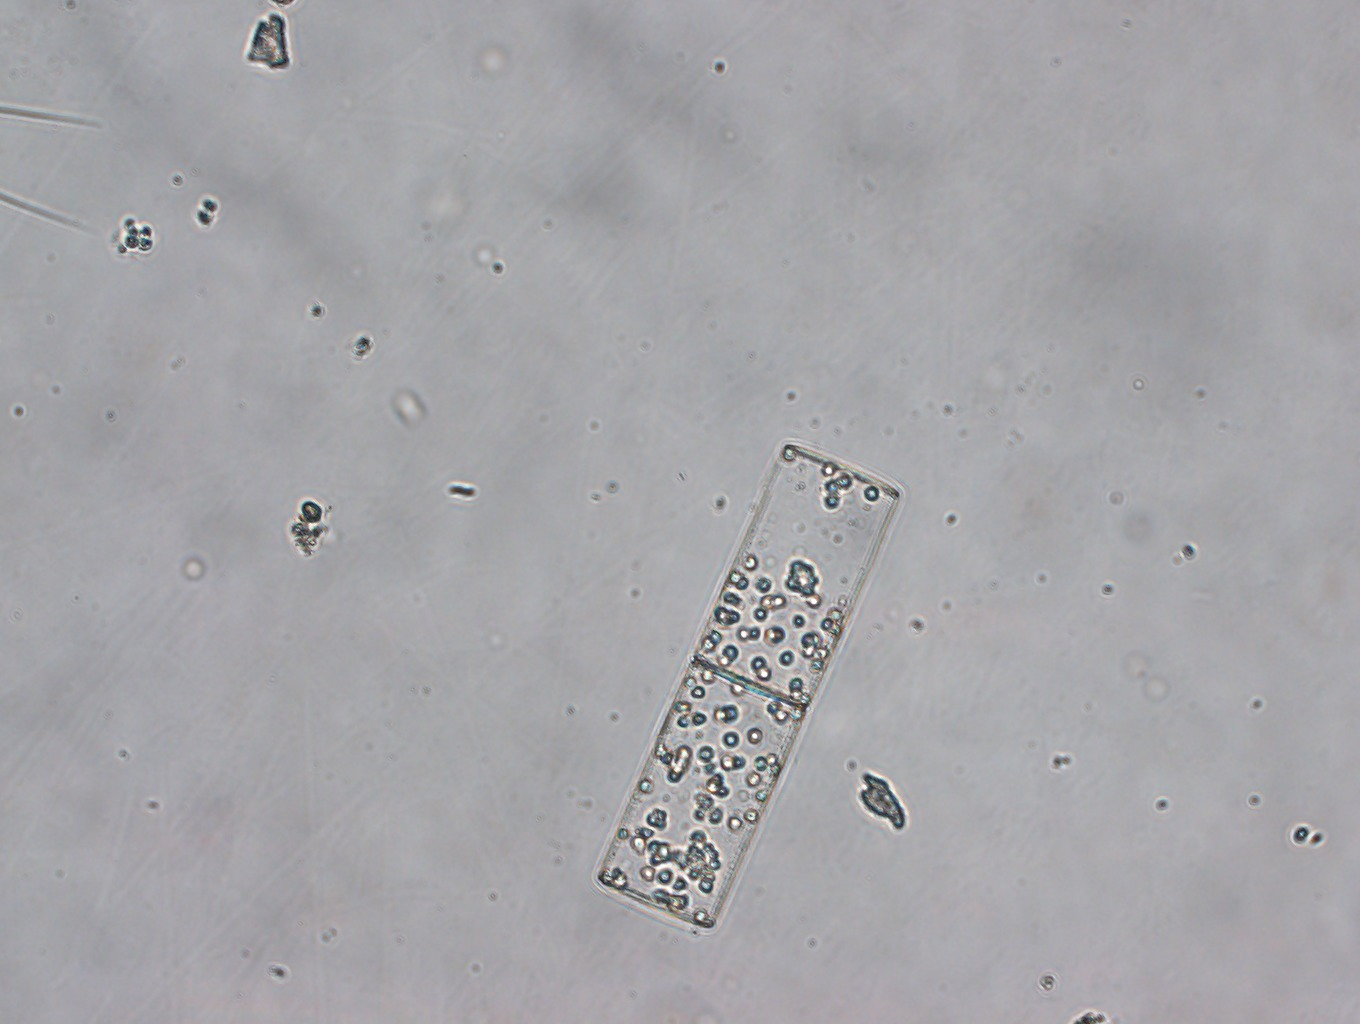guinardia flaccida: (598, 445, 901, 930)
